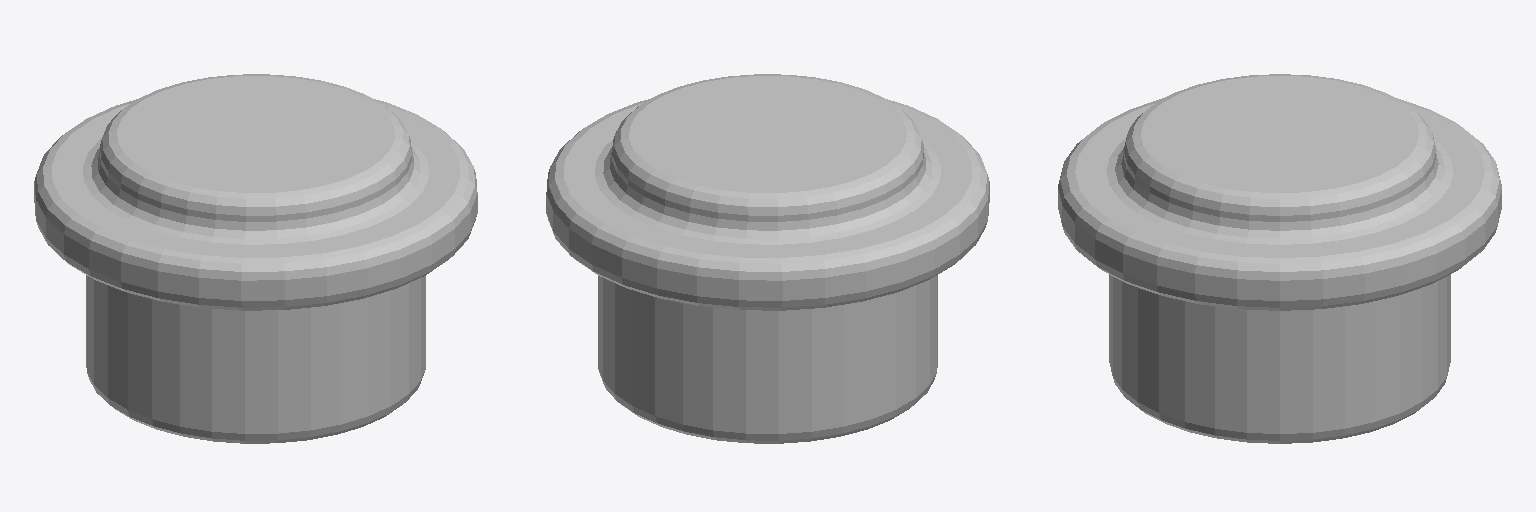
The model's file is bumper1.obj.
3 renders of one model, left to right at view 1: azimuth 30°, elevation 25°; view 2: azimuth 150°, elevation 25°; view 3: azimuth 270°, elevation 25°, orthographic.
Parts seen in each view (by area): view 1: Score1_Cylinder.005; view 2: Score1_Cylinder.005; view 3: Score1_Cylinder.005.
Part boxes in pixels (x1,y1,x2,y2): Score1_Cylinder.005: (34, 74, 477, 443); Score1_Cylinder.005: (546, 74, 989, 443); Score1_Cylinder.005: (1058, 74, 1501, 443).
Bounding box in the file's own units: 0.7531 × 0.4547 × 0.7531.